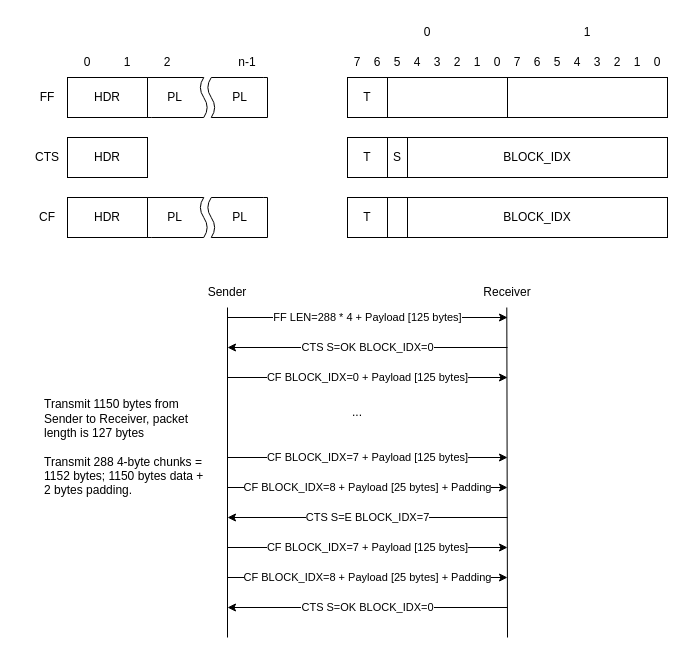
This 685x656 diagram has some shape labels left out. The shapes that lost their labels are listed below. From the top down, each one's centre as x and y in pixels, then its label:
(x=447, y=97): LEN_HI
(x=587, y=97): LEN_LO
